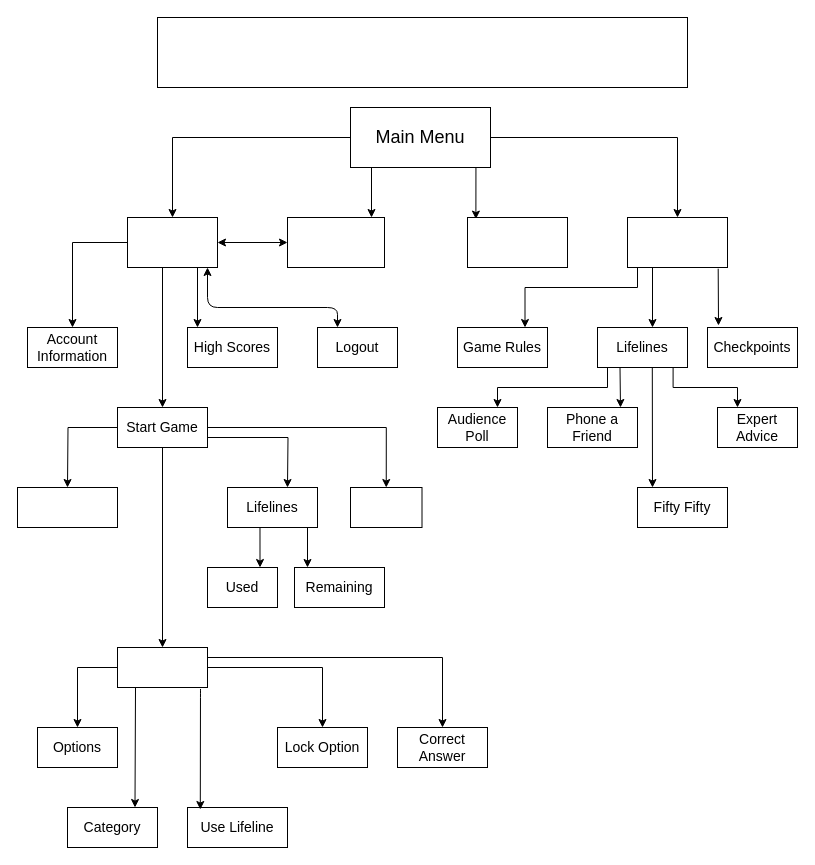
Image size: 815x865. Some labels were removed from this diagram. Here are the shapes that lost their labels. From the top down, the centre of each, then its label:
At (x=422, y=52): "Quiz Game System".
At (x=172, y=242): "Login".
At (x=335, y=242): "Create Account".
At (x=517, y=242): "Developer Information".
At (x=677, y=242): "Rules".
At (x=67, y=507): "Denomination".
At (x=386, y=507): "Quit".
At (x=162, y=667): "Question".
